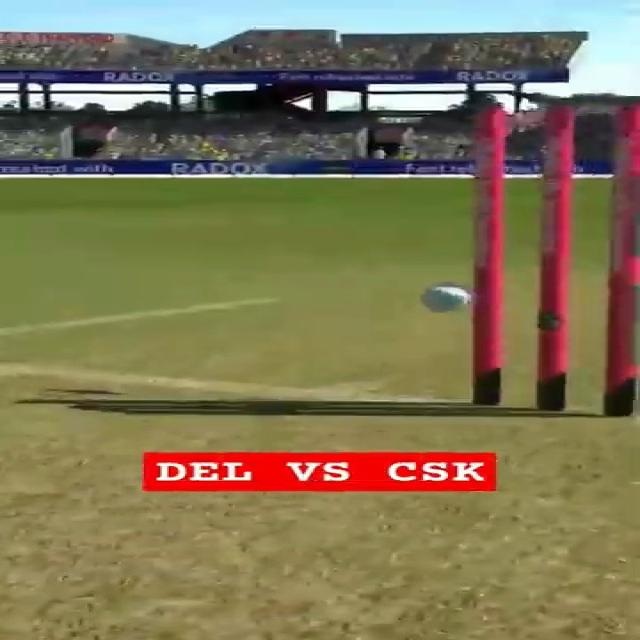ball: (420, 281, 473, 312)
